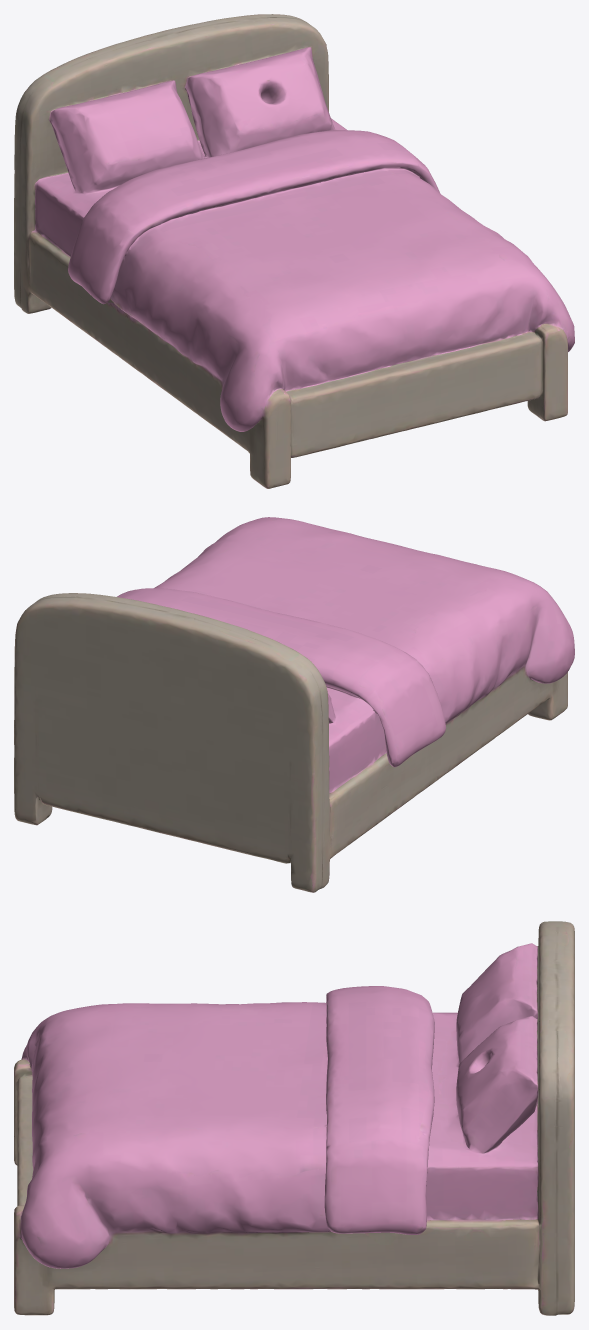
Rendered from bilik_bed_solidpink.glb.
3 renders of one model, top to bottom at view 1: azimuth 30°, elevation 25°; view 2: azimuth 150°, elevation 25°; view 3: azimuth 270°, elevation 25°, orthographic. The views are drawn at different scales.
Size of the model in its own units: 0.7867 by 0.5201 by 1.
1 material, 1 textured.
